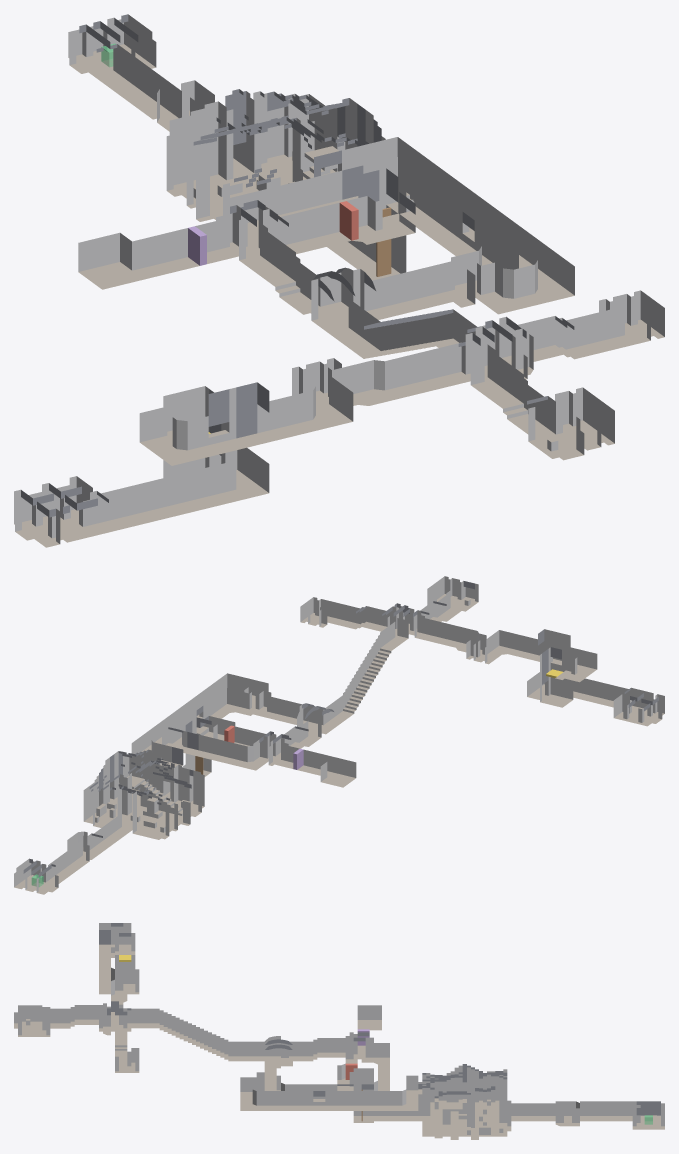
File: underground_1.glb
3 renders of one model, top to bottom at view 1: azimuth 30°, elevation 25°; view 2: azimuth 150°, elevation 25°; view 3: azimuth 270°, elevation 25°, orthographic. The views are drawn at different scales.
Visible parts, largest first — view 1: corridor_7.structure, corridor_13.structure, corridor_14.structure, room_4_megaroom.structure, corridor_12.structure, corridor_6.structure, corridor_1.structure, corridor_3.structure, room_4_megaroom.cavern, room_8_key.structure, corridor_8.structure, room_6_exit.structure (+24 smaller); view 2: room_4_megaroom.structure, corridor_13.structure, corridor_7.structure, corridor_1.structure, corridor_14.structure, room_13_lift.structure, corridor_12.structure, room_4_megaroom.cavern, corridor_6.structure, corridor_8.structure, room_8_key.structure, room_4_megaroom.rough walls (+17 smaller); view 3: room_4_megaroom.structure, corridor_14.structure, corridor_1.structure, corridor_13.structure, corridor_2.structure, corridor_5.structure, corridor_7.structure, corridor_0.structure, room_4_megaroom.rough walls, corridor_4.structure, room_2_hub.structure, room_4_megaroom.cavern (+13 smaller).
Part boxes in pixels (x1,y1,x2,y2): corridor_7.structure: (139, 381, 353, 465); corridor_13.structure: (223, 157, 518, 269); corridor_14.structure: (349, 137, 574, 314); room_4_megaroom.structure: (169, 91, 385, 219); corridor_12.structure: (97, 447, 269, 532); corridor_6.structure: (346, 342, 466, 405); corridor_1.structure: (328, 298, 476, 358); corridor_3.structure: (276, 192, 415, 254); room_4_megaroom.cavern: (193, 89, 381, 187); room_8_key.structure: (14, 476, 108, 547); corridor_8.structure: (513, 309, 622, 361); room_6_exit.structure: (68, 14, 156, 81); room_4_megaroom.structure: (83, 749, 204, 839); corridor_13.structure: (162, 688, 264, 770); corridor_7.structure: (490, 629, 597, 682); corridor_1.structure: (323, 622, 408, 727); corridor_14.structure: (131, 673, 268, 761); room_13_lift.structure: (540, 647, 573, 707); corridor_12.structure: (527, 672, 630, 707); room_4_megaroom.cavern: (89, 750, 193, 804); corridor_6.structure: (414, 618, 479, 652); corridor_8.structure: (330, 602, 388, 631); room_8_key.structure: (613, 687, 664, 726); room_4_megaroom.rough walls: (93, 775, 201, 839); room_4_megaroom.structure: (422, 1065, 507, 1136); corridor_14.structure: (240, 1077, 418, 1110); corridor_1.structure: (127, 1008, 264, 1061); corridor_13.structure: (281, 1043, 389, 1100); corridor_2.structure: (289, 1038, 345, 1061); corridor_5.structure: (580, 1101, 632, 1121); corridor_7.structure: (99, 930, 131, 988); corridor_0.structure: (50, 1005, 102, 1028); room_4_megaroom.rough walls: (418, 1075, 511, 1139); corridor_4.structure: (511, 1103, 555, 1121); room_2_hub.structure: (264, 1036, 292, 1068); room_4_megaroom.cavern: (422, 1064, 507, 1098).
Bounding box in the file's own units: 99 × 23 × 161.
